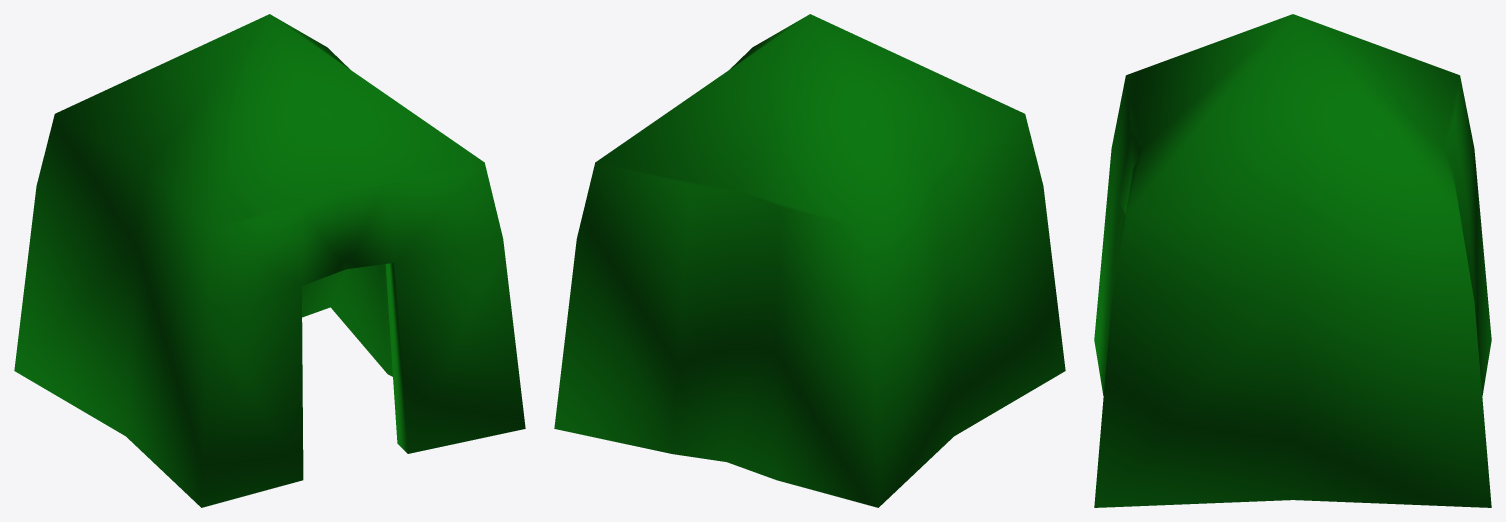
File: tent1.obj
3 views of the same model, side by side, from view 1: azimuth 30°, elevation 25°; view 2: azimuth 150°, elevation 25°; view 3: azimuth 270°, elevation 25° (orthographic). The views are drawn at different scales.
Visible parts, largest first — view 1: Cube; view 2: Cube; view 3: Cube.
Part boxes in pixels (<box>): Cube: <box>14,14,525,507</box>; Cube: <box>554,14,1065,507</box>; Cube: <box>1094,14,1491,507</box>.
Size of the model in its own units: 7.31 by 8.38 by 7.31.
1 material, 1 textured.
